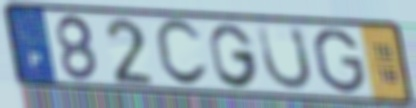2: (104, 14, 157, 88)
8: (54, 12, 100, 83)
C: (152, 16, 212, 89)
G: (311, 27, 368, 96), (207, 21, 262, 90)
U: (255, 23, 315, 93)
